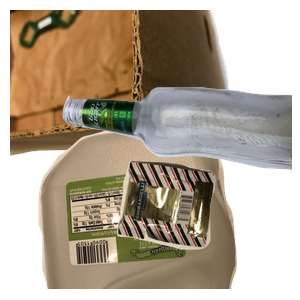cardboard: (10, 10, 237, 158)
glass: (60, 84, 300, 260)
plastic: (36, 120, 265, 300)
trash: (115, 158, 300, 300)
